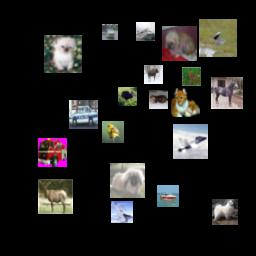airplane: (173, 124, 208, 159), (111, 201, 133, 223)
automobile: (69, 100, 98, 129)
bird: (199, 19, 237, 57), (102, 121, 124, 143), (118, 87, 137, 106)
cat: (44, 35, 82, 73), (171, 88, 200, 117), (149, 90, 168, 109)
deer: (38, 179, 73, 214), (144, 65, 163, 84), (182, 67, 201, 86)
dog: (110, 163, 145, 198), (162, 26, 197, 61), (212, 199, 238, 225)
ship: (157, 185, 179, 207), (136, 22, 155, 41), (102, 24, 118, 40)
truck: (38, 138, 67, 167)
